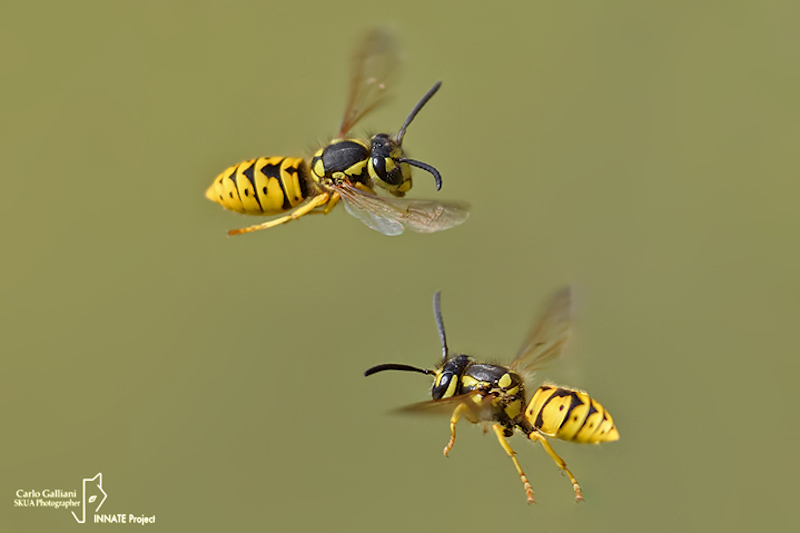chax: (199, 19, 500, 264), (352, 277, 652, 519)
